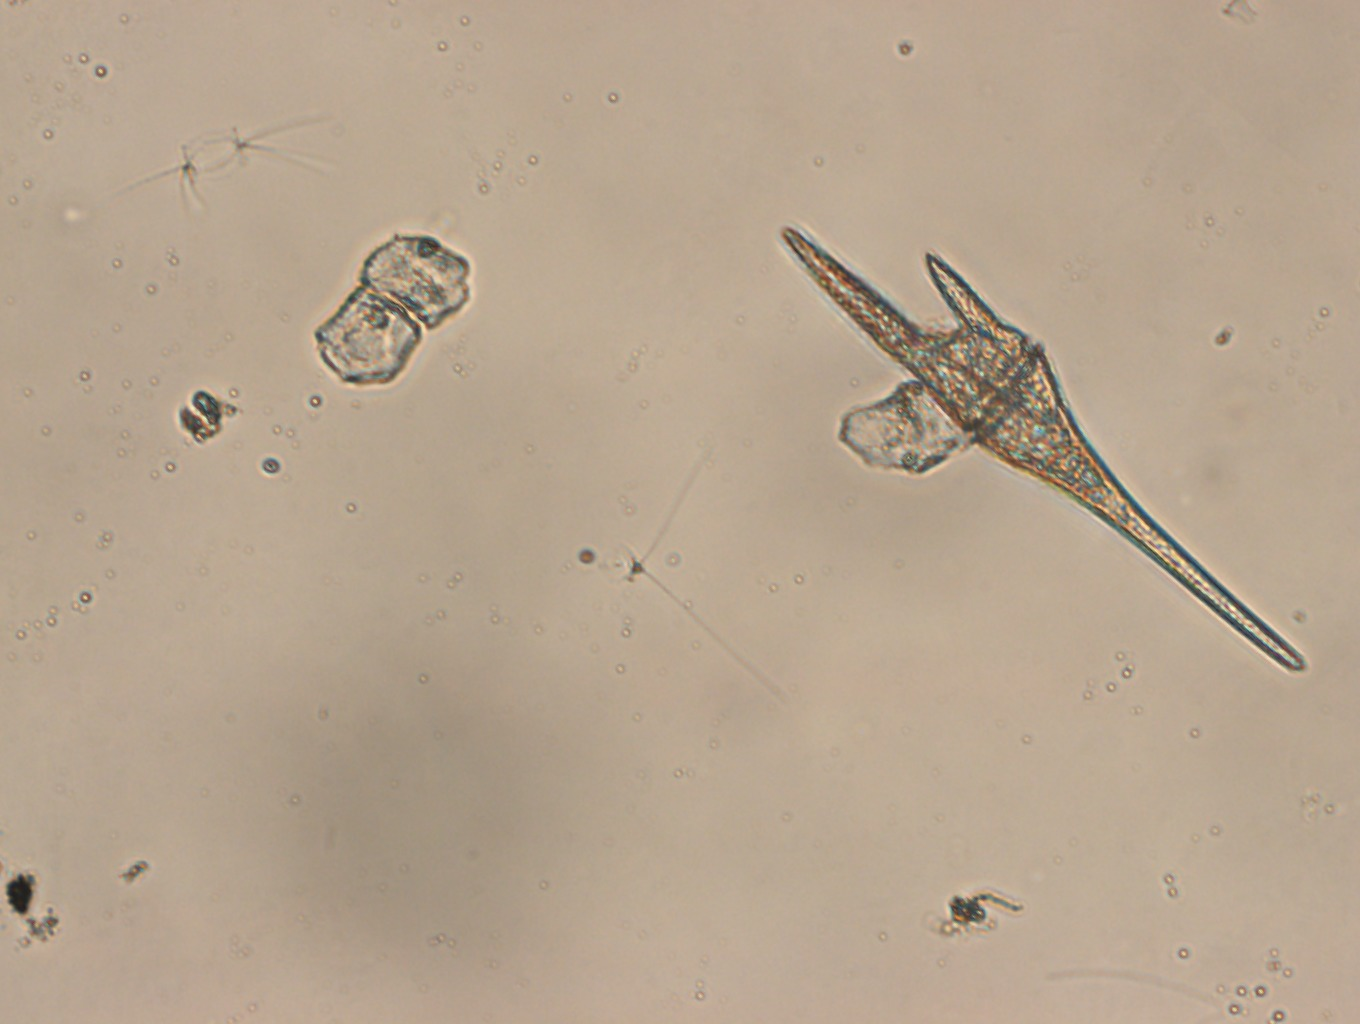ceratium furca: (777, 221, 1312, 681)
chaetoceros: (105, 111, 337, 211)
